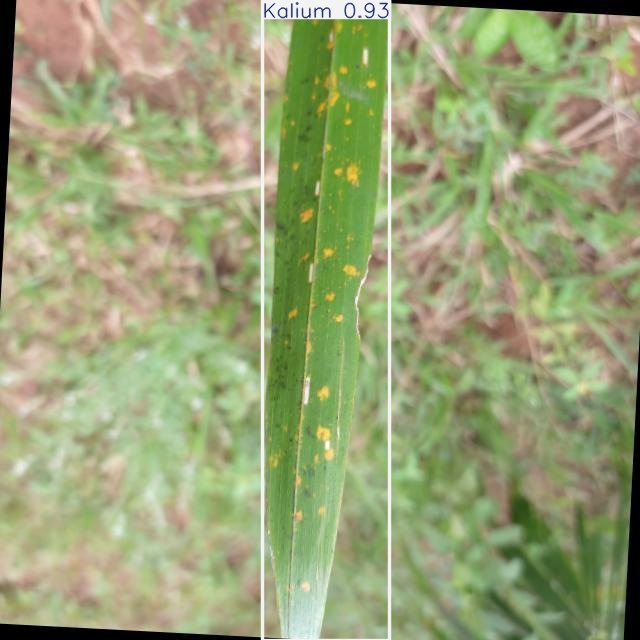Kalium: (263, 0, 390, 640)
